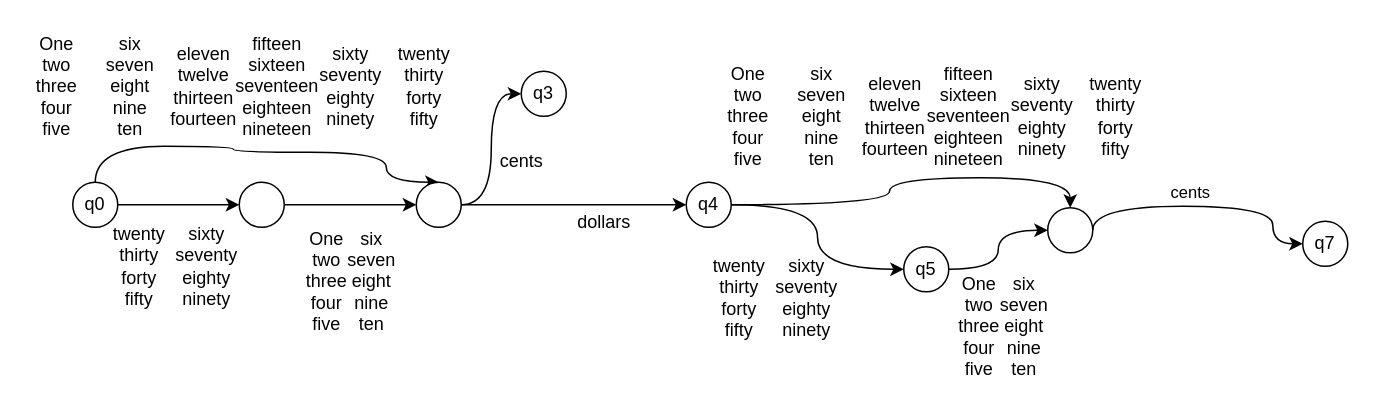
Some shapes in this 1374 by 411 pixel diagram are drawn without their labels. Here are the shapes that lost their labels. From the top down, the centre of each, then its label:
[261,204]: q1
[438,204]: q2
[1069,229]: q6
